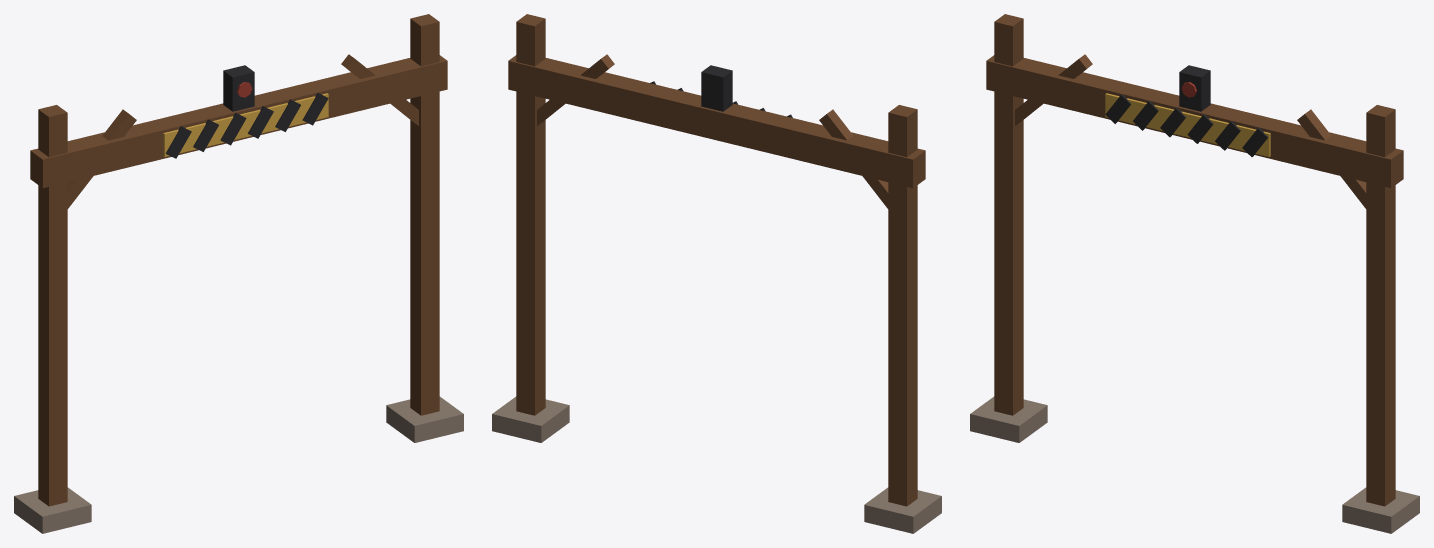
Rendered from SM_LowGantry.fbx.
The picture shows the model from 3 angles, left to right: view 1: azimuth 30°, elevation 25°; view 2: azimuth 150°, elevation 25°; view 3: azimuth 330°, elevation 25°; orthographic projection.
Visible parts, largest first — view 1: LowGantry; view 2: LowGantry; view 3: LowGantry.
Boxes of the visible parts, box(x1,y1,x2,y2) form: LowGantry: box(14, 14, 463, 533); LowGantry: box(492, 14, 941, 533); LowGantry: box(970, 14, 1419, 533).
Size of the model in its own units: 770 by 90 by 710.
